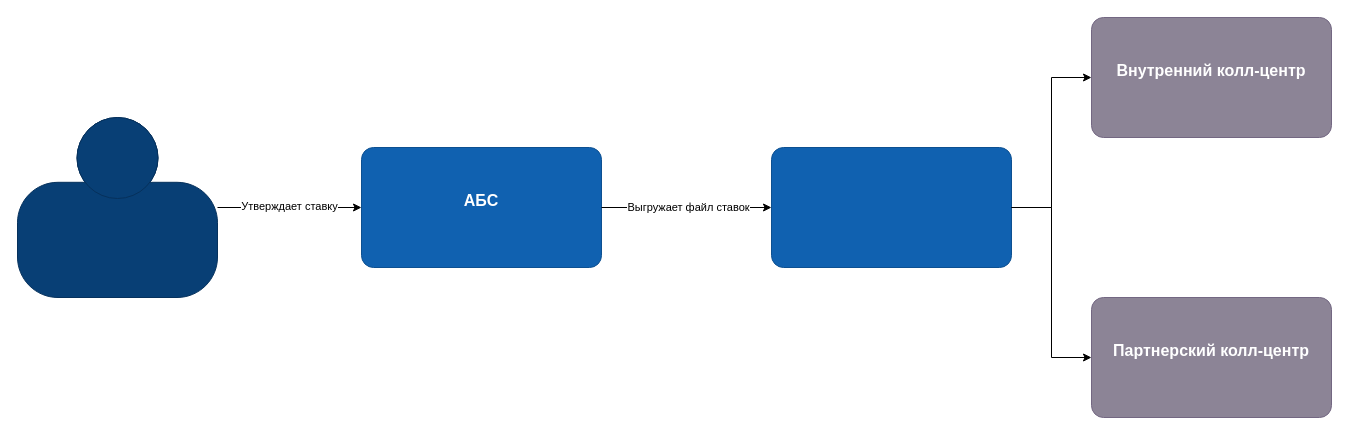
Some shapes in this 1349 by 435 pixel diagram are drawn without their labels. Here are the shapes that lost their labels. From the top down, the centre of each, then its label:
At [117,207]: "Менеджер депозитов".
At [891,207]: "SFTP-сервер".
